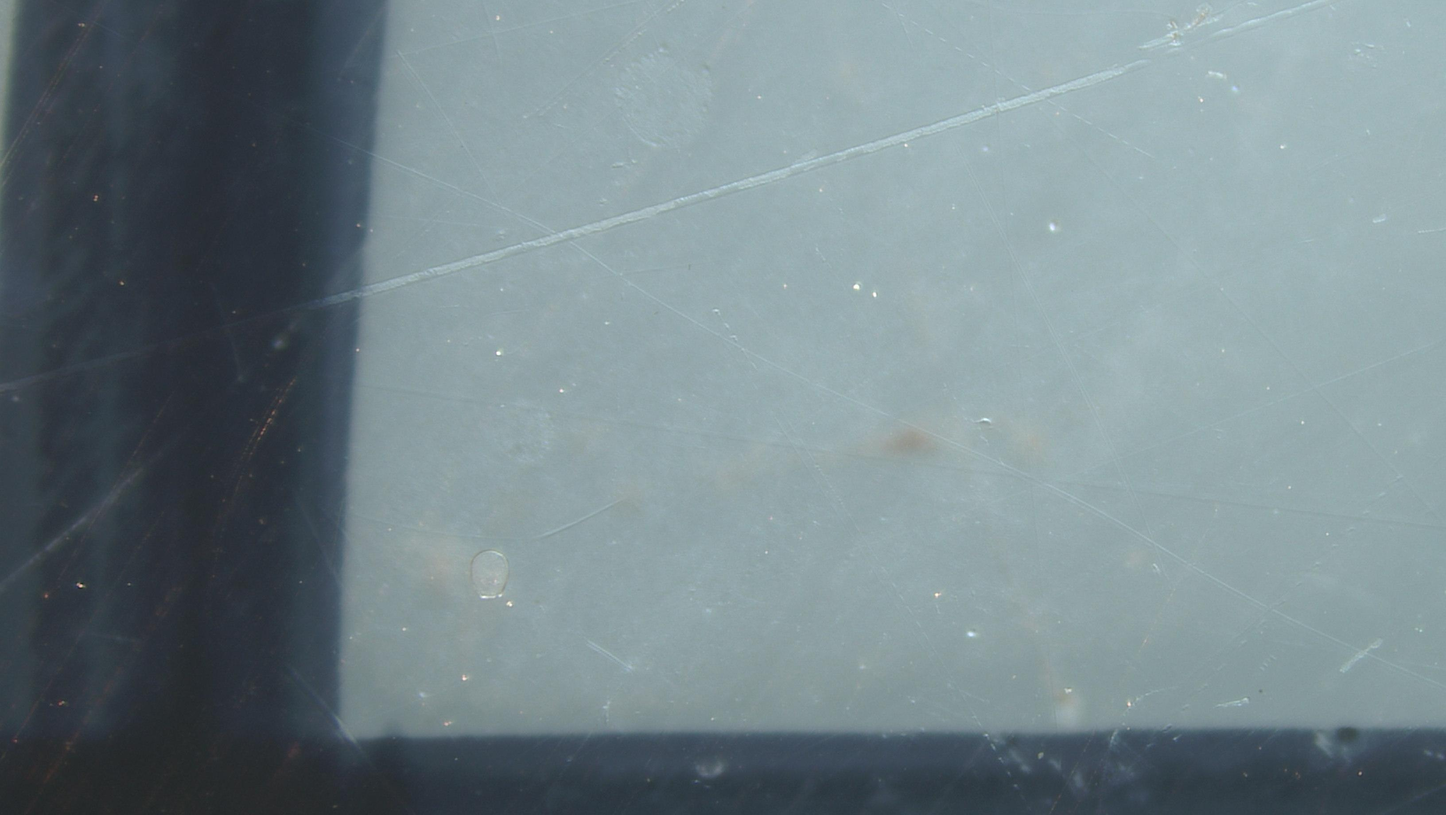dead: (470, 551, 509, 599)
